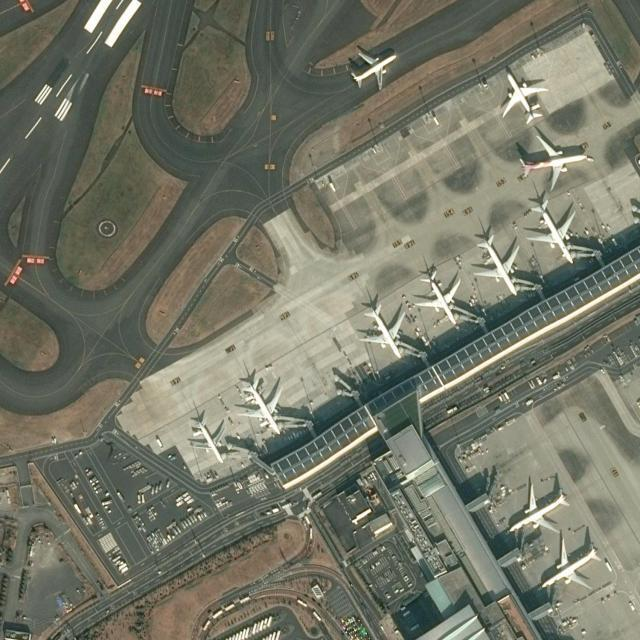Aircraft: (514, 130, 590, 186), (523, 196, 579, 264), (540, 537, 603, 593), (506, 479, 566, 535), (469, 235, 521, 296), (235, 379, 285, 433), (359, 303, 407, 359), (416, 270, 462, 327), (497, 69, 545, 123), (345, 45, 397, 87), (187, 420, 229, 465)
